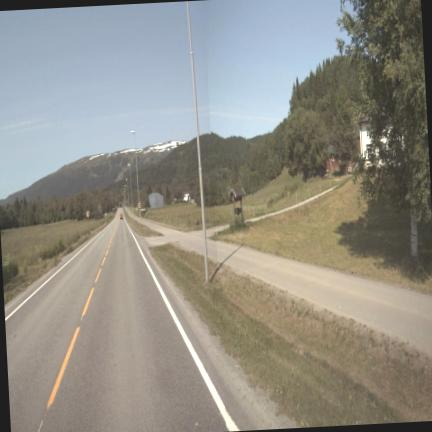Road: (5, 215, 261, 431)
